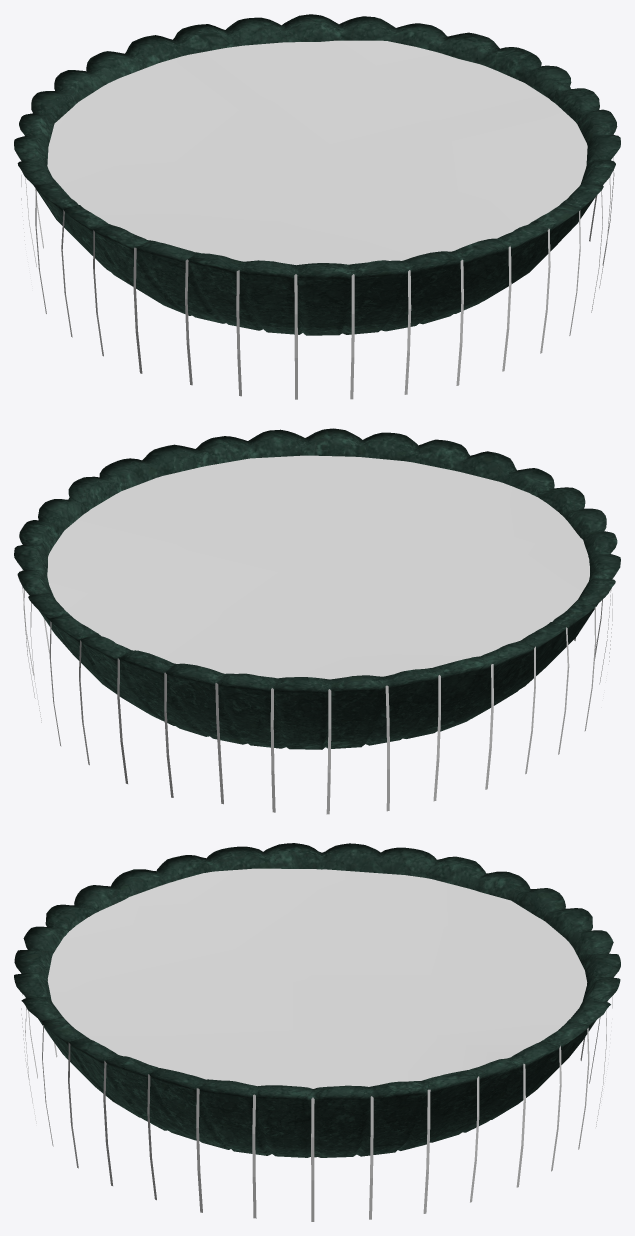
Rendered from Fountain Mid.fbx.
3 renders of one model, top to bottom at view 1: azimuth 30°, elevation 25°; view 2: azimuth 150°, elevation 25°; view 3: azimuth 270°, elevation 25°, orthographic.
Parts seen in each view (by area): view 1: Water, Fountain; view 2: Water, Fountain; view 3: Water, Fountain.
Boxes of the visible parts, left/top/right/bottom form: Water: left=21, top=40, right=614, bottom=399; Fountain: left=14, top=14, right=620, bottom=335; Water: left=22, top=455, right=612, bottom=814; Fountain: left=14, top=428, right=620, bottom=749; Water: left=21, top=868, right=612, bottom=1221; Fountain: left=14, top=843, right=620, bottom=1157.
Size of the model in its own units: 5.06 by 1.28 by 5.15.
